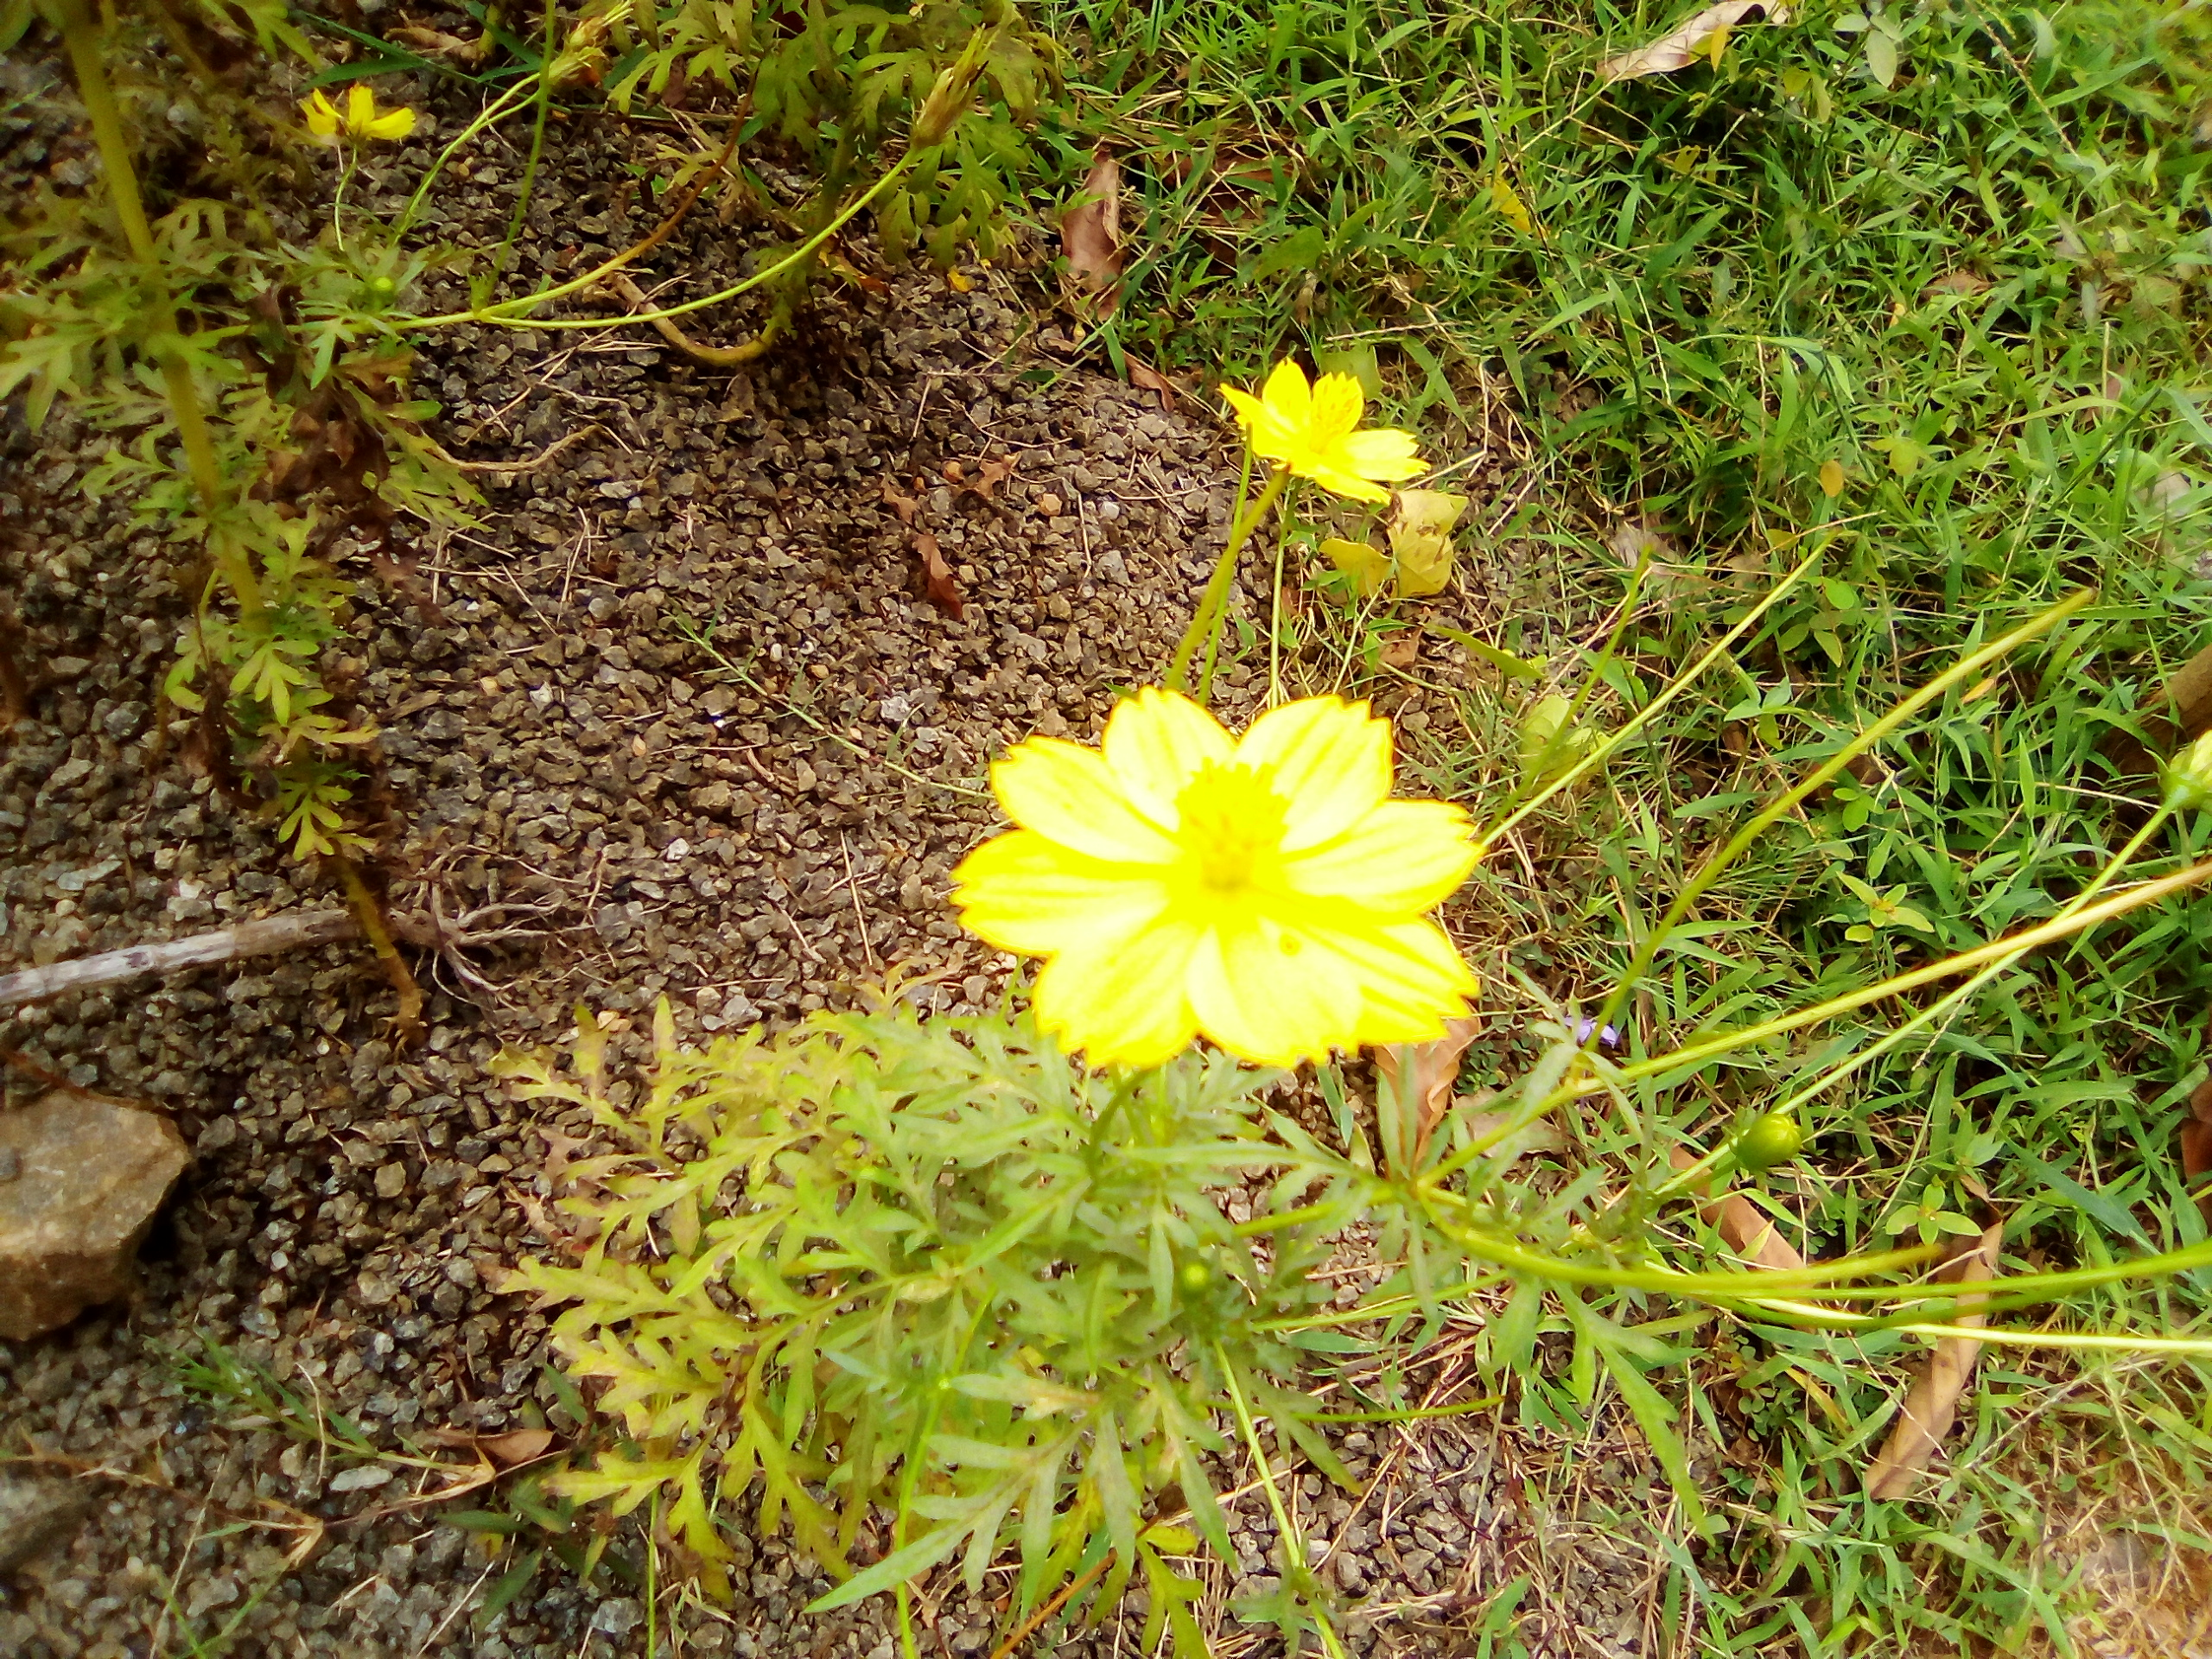kahamala: (899, 636, 1514, 1080), (1202, 338, 1465, 512)
